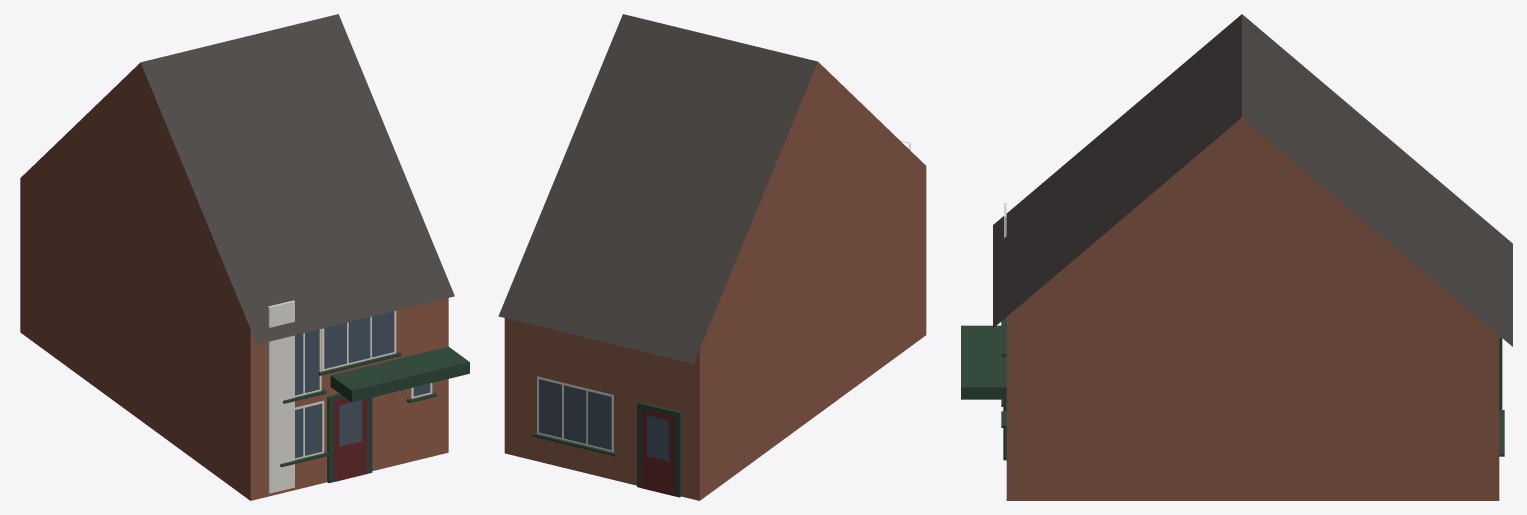
File: zo-g4-canopy-pair__green-canopy-low__2__gable__long__solid__mirror.glb
The picture shows the model from 3 angles, left to right: view 1: azimuth 30°, elevation 25°; view 2: azimuth 150°, elevation 25°; view 3: azimuth 270°, elevation 25°; orthographic projection. The views are drawn at different scales.
Visible parts, largest first — view 1: zo-g4-canopy-pair__green-canopy-low__2__gable__long__solid__; view 2: zo-g4-canopy-pair__green-canopy-low__2__gable__long__solid__; view 3: zo-g4-canopy-pair__green-canopy-low__2__gable__long__solid__.
Boxes of the visible parts, x1=… form: zo-g4-canopy-pair__green-canopy-low__2__gable__long__solid__: x1=20, y1=14, x2=469, y2=500; zo-g4-canopy-pair__green-canopy-low__2__gable__long__solid__: x1=498, y1=14, x2=926, y2=500; zo-g4-canopy-pair__green-canopy-low__2__gable__long__solid__: x1=961, y1=14, x2=1512, y2=500.
Bounding box in the file's own units: 5.37 × 9.28 × 12.11.
